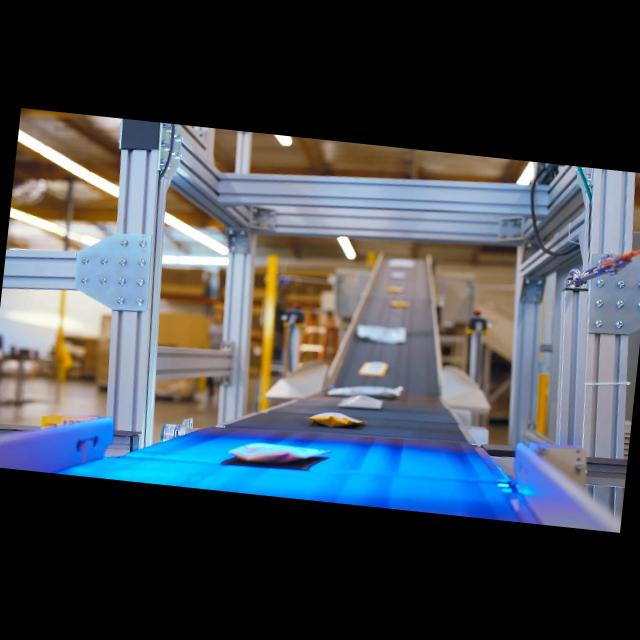mailer: (228, 442, 330, 463), (326, 385, 403, 398), (356, 324, 406, 344), (309, 412, 365, 427), (337, 394, 382, 409), (358, 361, 387, 376), (388, 258, 414, 268), (390, 300, 408, 308), (390, 271, 406, 279), (387, 286, 403, 293)
